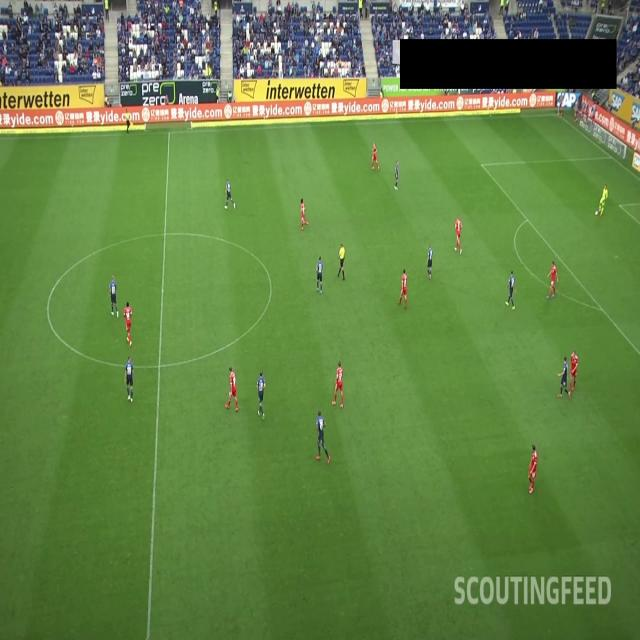ball: (593, 205, 599, 219)
player: (316, 412, 331, 467), (225, 368, 240, 416), (122, 296, 135, 346), (222, 175, 238, 211), (124, 354, 136, 402), (334, 358, 344, 413), (108, 271, 120, 316), (397, 266, 409, 310), (256, 370, 266, 420), (454, 216, 466, 253), (297, 196, 311, 227), (507, 268, 517, 311), (530, 441, 538, 491), (570, 350, 578, 400), (549, 258, 558, 301), (315, 255, 326, 289), (425, 241, 435, 276), (560, 356, 568, 396), (601, 184, 609, 219), (392, 157, 400, 191), (372, 141, 381, 170)
